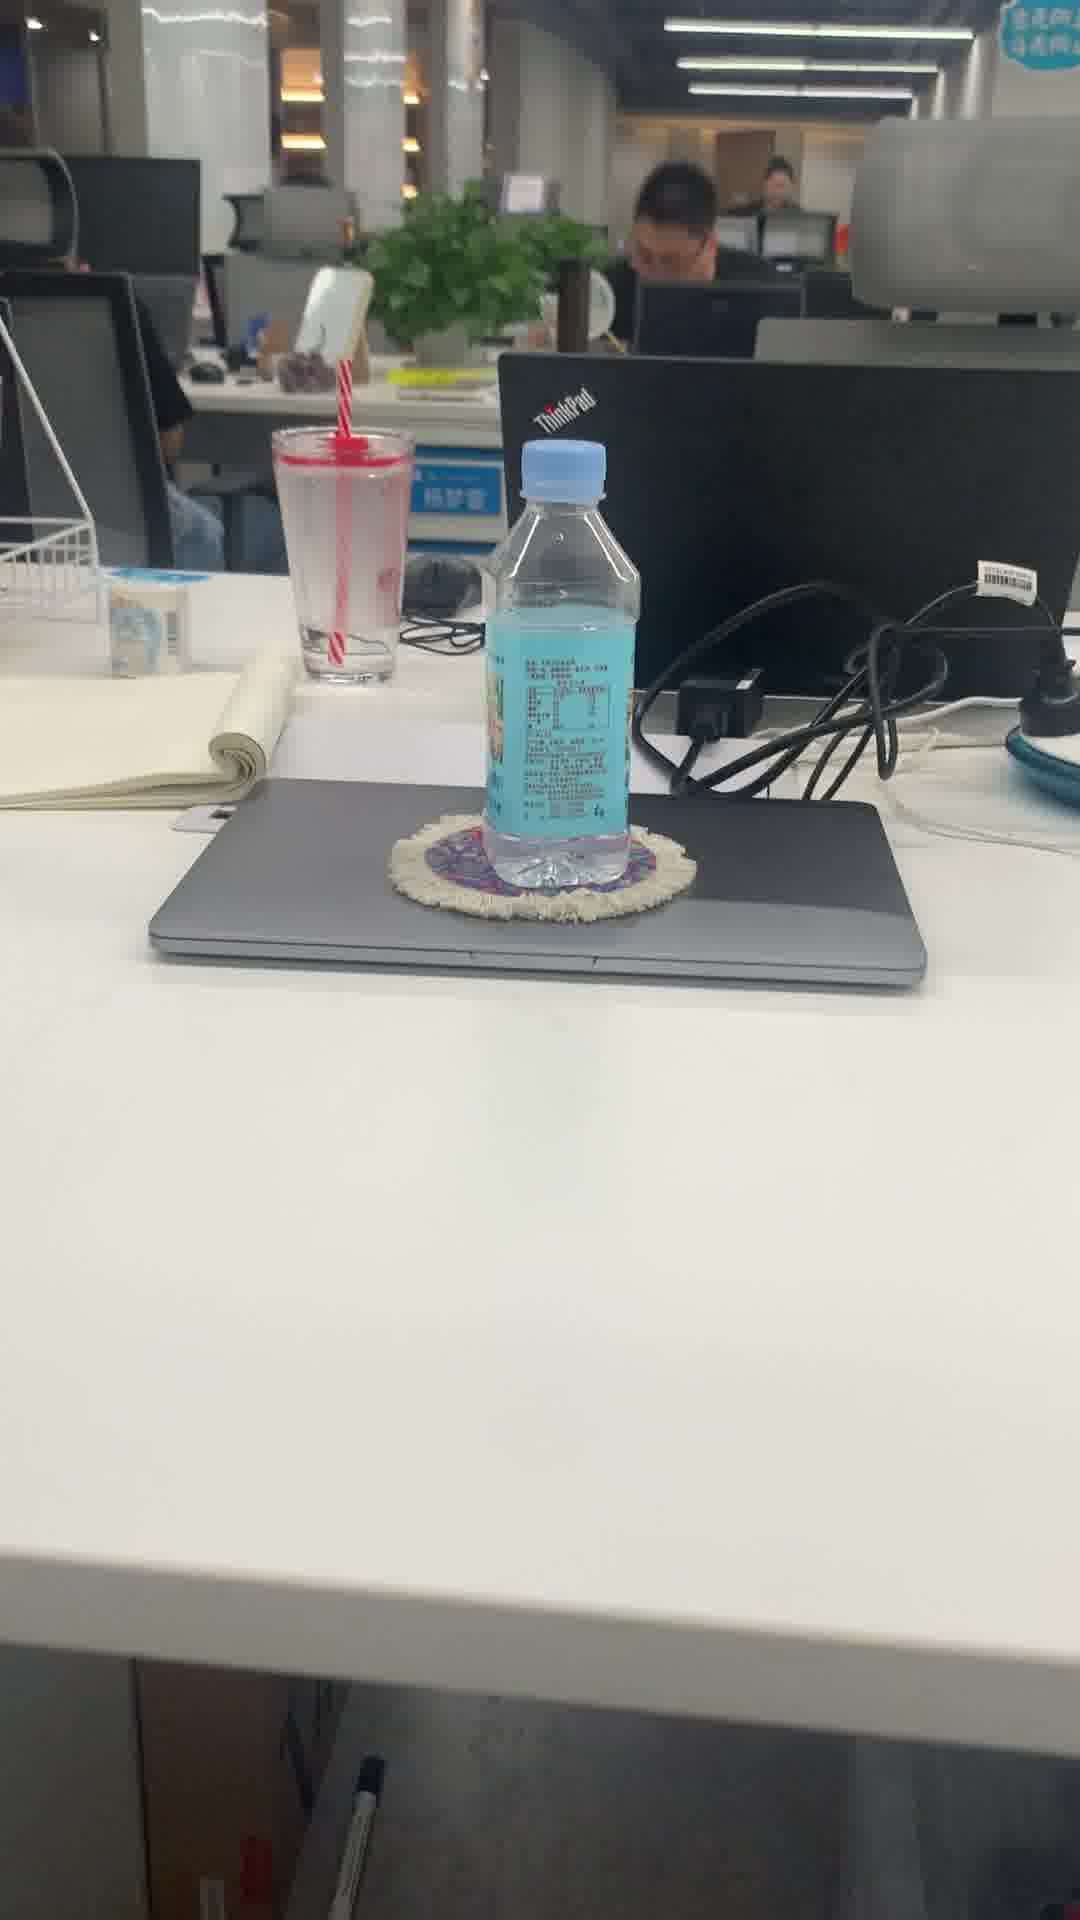水瓶: (477, 434, 641, 905)
